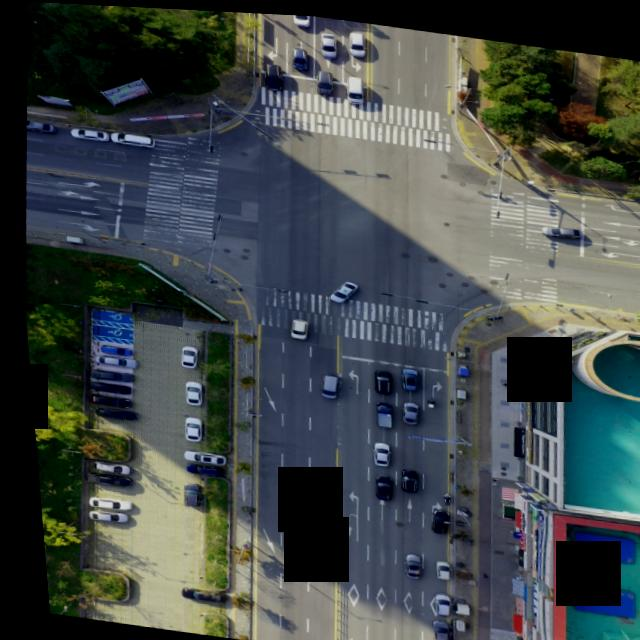car: (341, 71, 363, 99), (538, 217, 579, 232)
small_truck: (366, 397, 386, 424)
